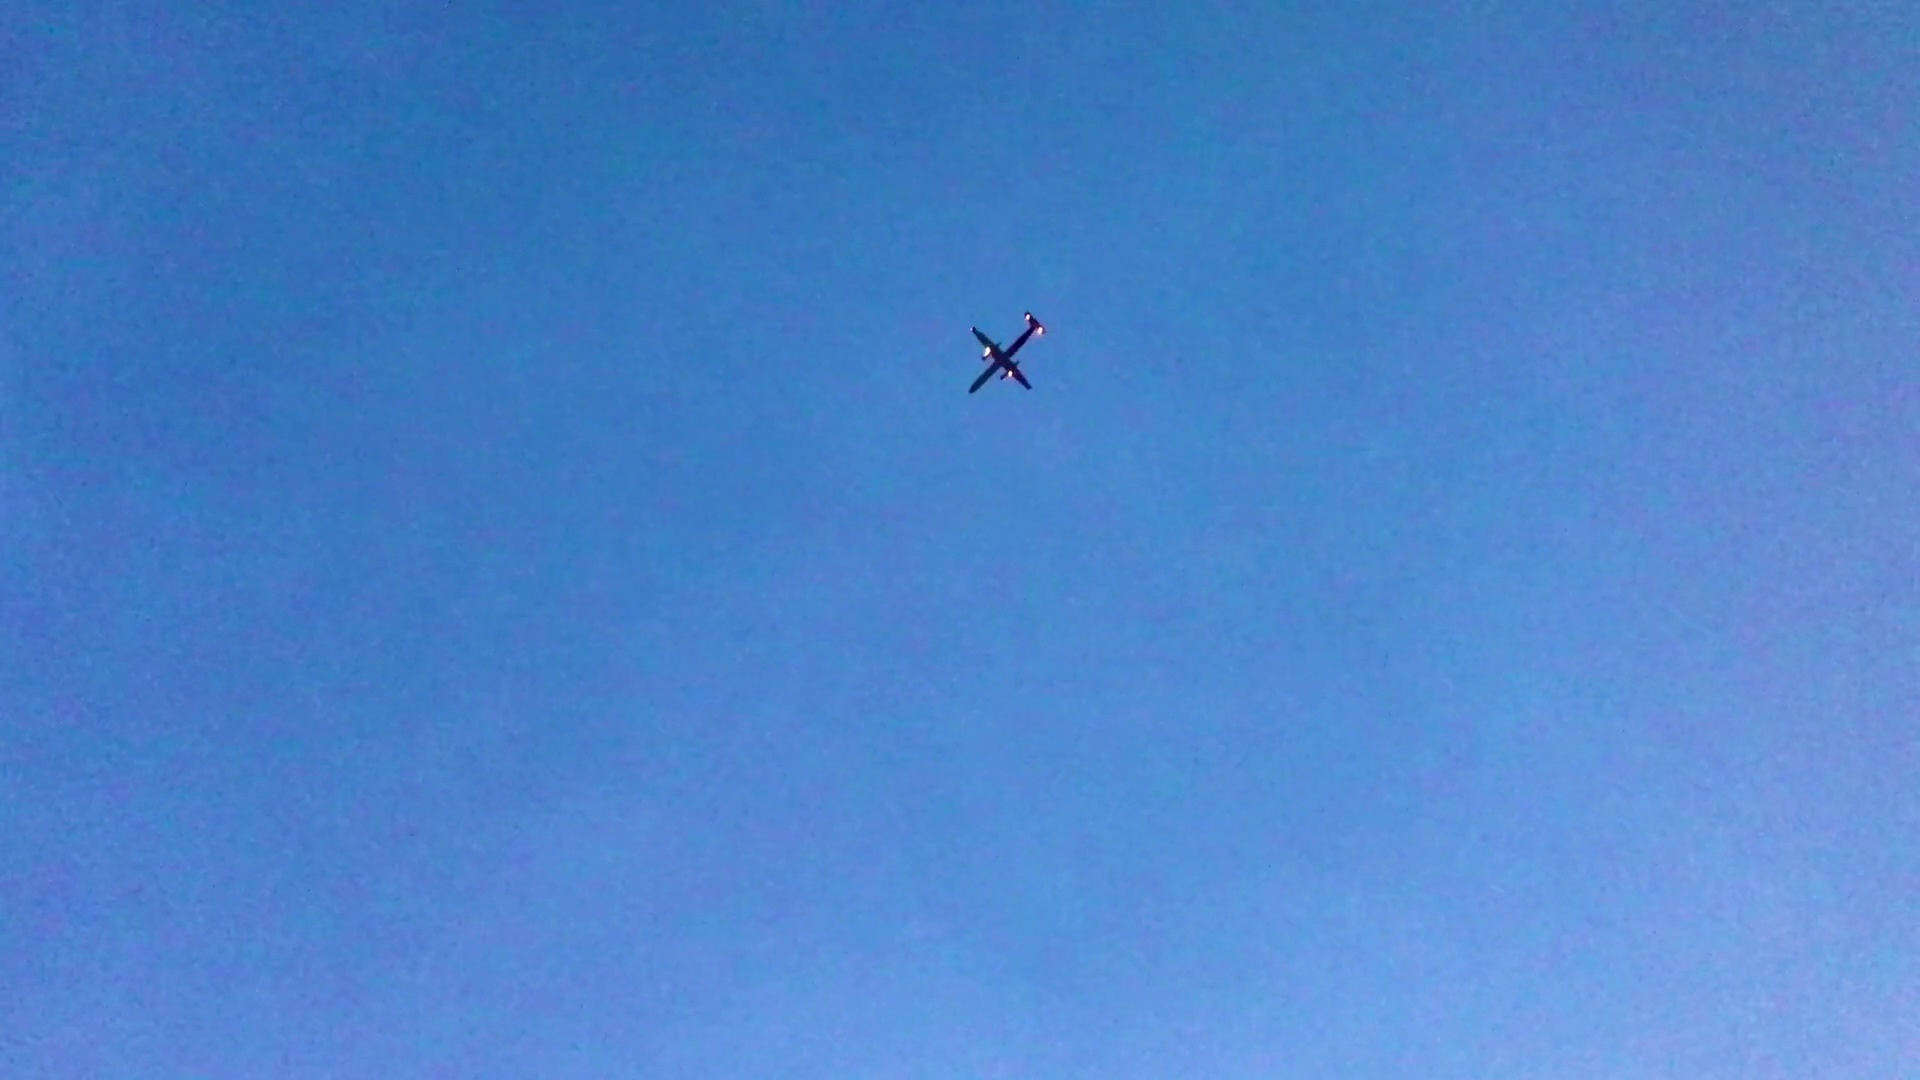plane: (965, 309, 1047, 396)
